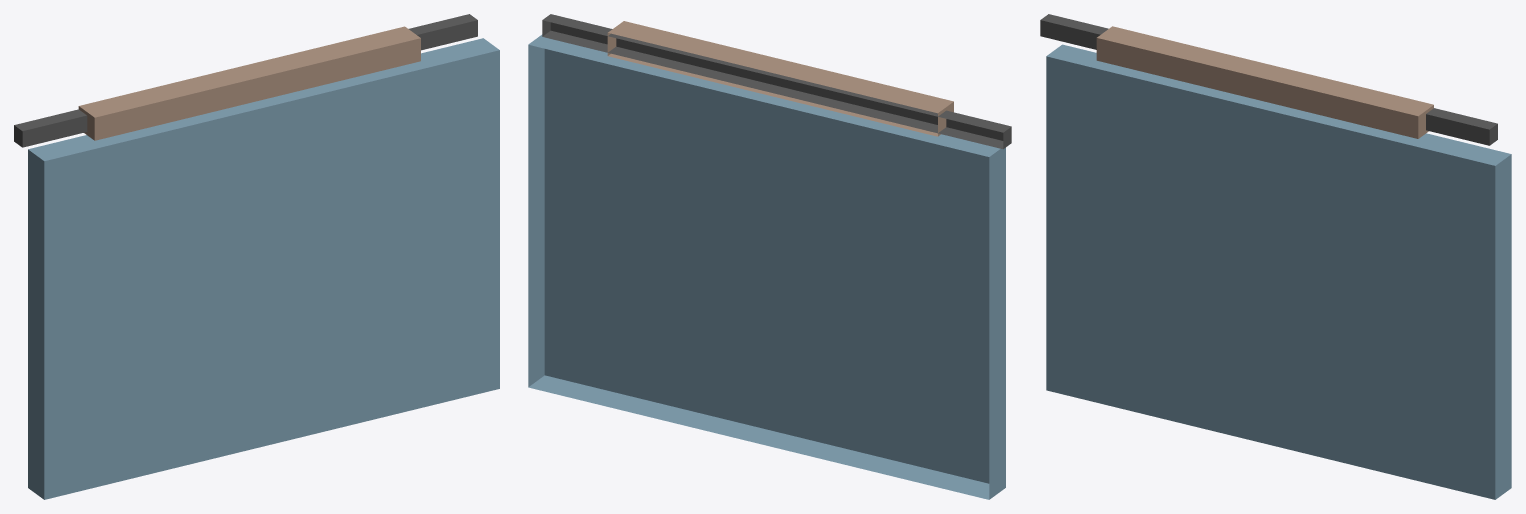
The model's file is Mirror_9.fbx.
The picture shows the model from 3 angles, left to right: view 1: azimuth 30°, elevation 25°; view 2: azimuth 150°, elevation 25°; view 3: azimuth 330°, elevation 25°; orthographic projection. The views are drawn at different scales.
Visible parts, largest first — view 1: Mirror_9; view 2: Mirror_9; view 3: Mirror_9.
Boxes of the visible parts, x1,y1,x2,y2 form: Mirror_9: (14, 14, 499, 499); Mirror_9: (528, 14, 1011, 499); Mirror_9: (1040, 14, 1511, 499).
Bounding box in the file's own units: 196 × 11.87 × 148.
